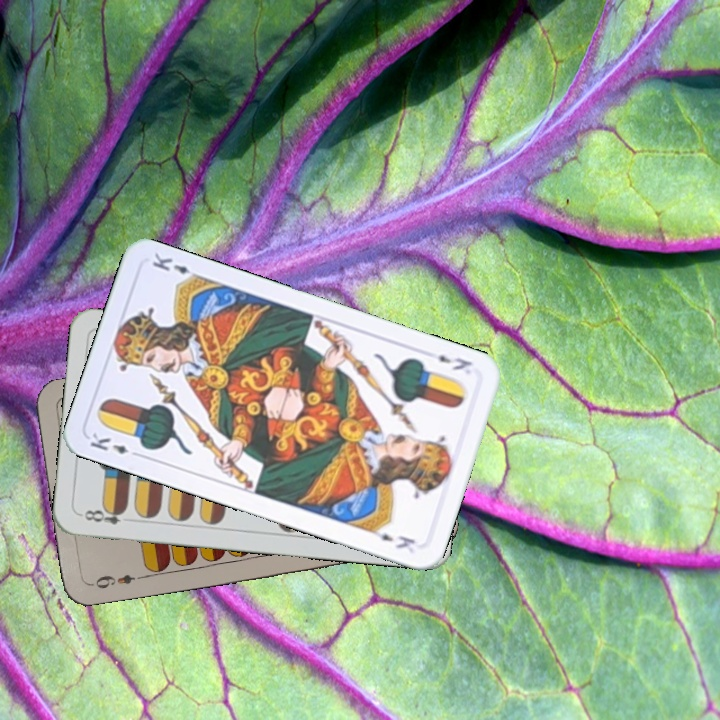E8: (77, 503, 129, 527)
E9: (87, 570, 146, 592)
EK: (86, 428, 144, 460), (434, 350, 475, 373)
